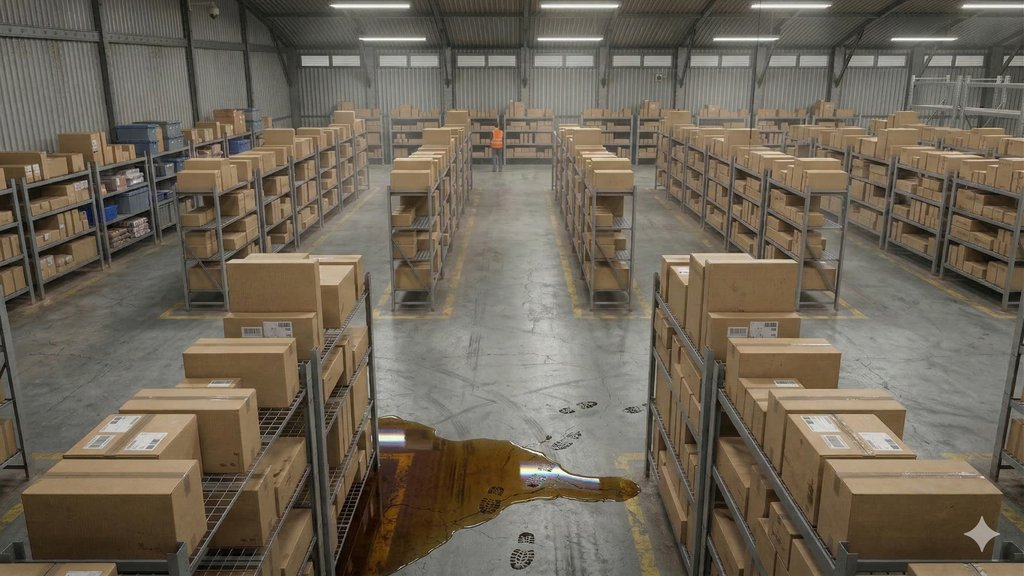empty_shelf: (909, 64, 1024, 117)
person: (480, 109, 517, 173)
safety_vest: (489, 126, 506, 150)
spill: (347, 401, 640, 576)
